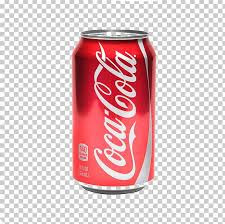coke: (71, 31, 155, 191)
